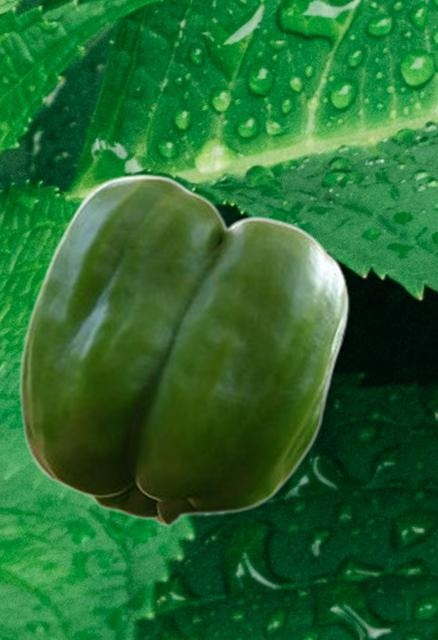bell_pepper: (18, 173, 348, 526)
